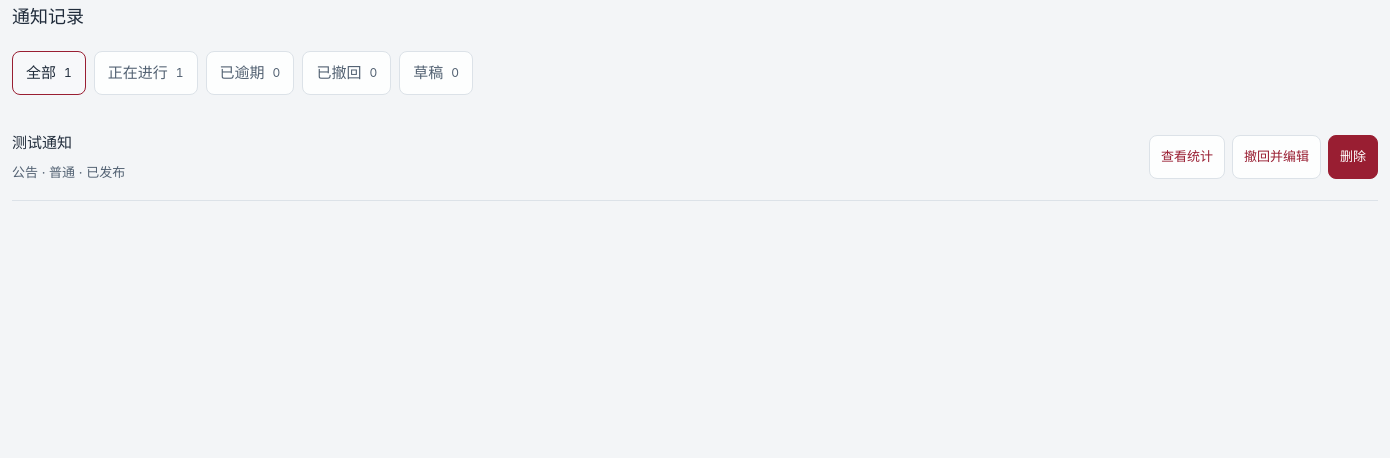
Test: collapses statistics on the second click
Click the button "查看统计" at (1187,157), box top-left (1149, 135), bottom-right (1225, 179)
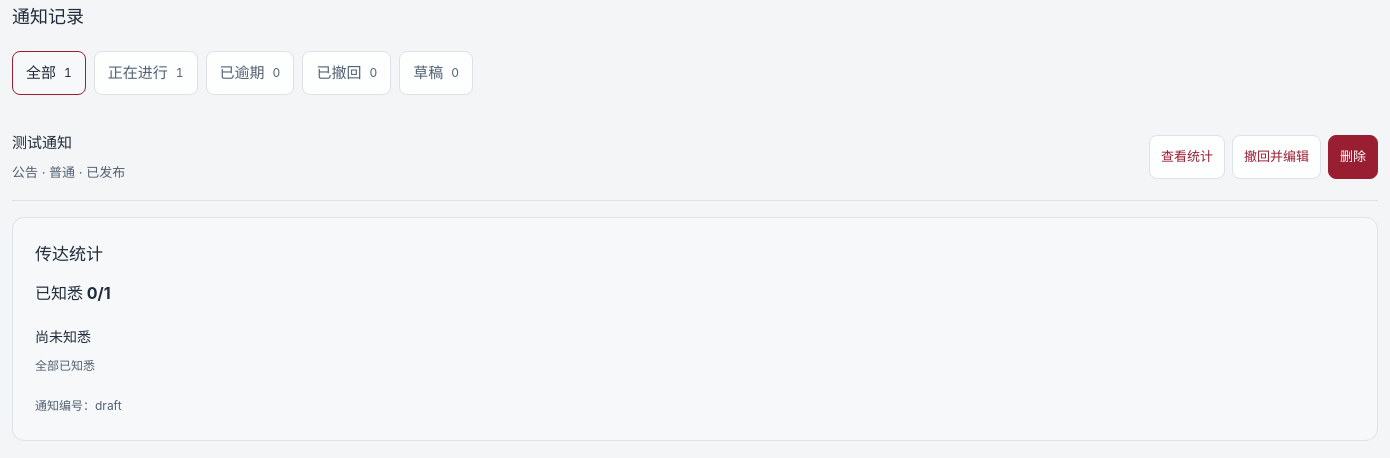
Expected: the heading "传达统计" is shown, top-left (35, 244), bottom-right (103, 264)
Click the button "查看统计" at (1187,157), box top-left (1149, 135), bottom-right (1225, 179)
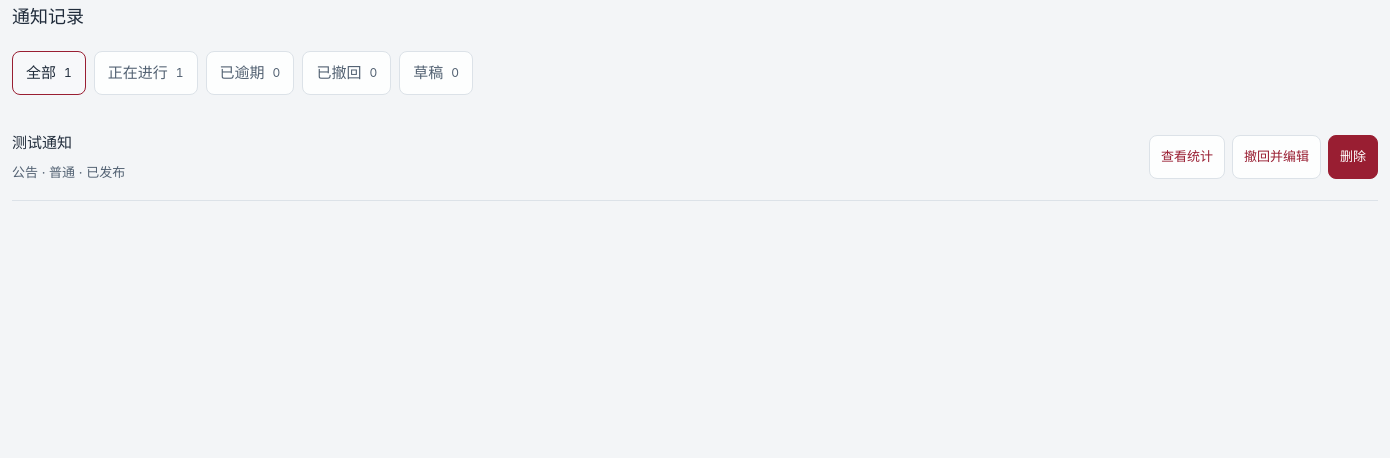
Expected: the heading "传达统计" is gone
